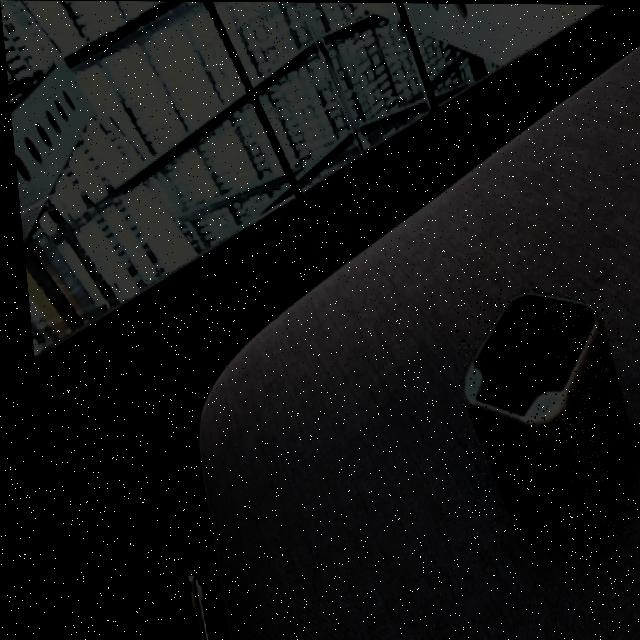adapter: (446, 287, 629, 536)
